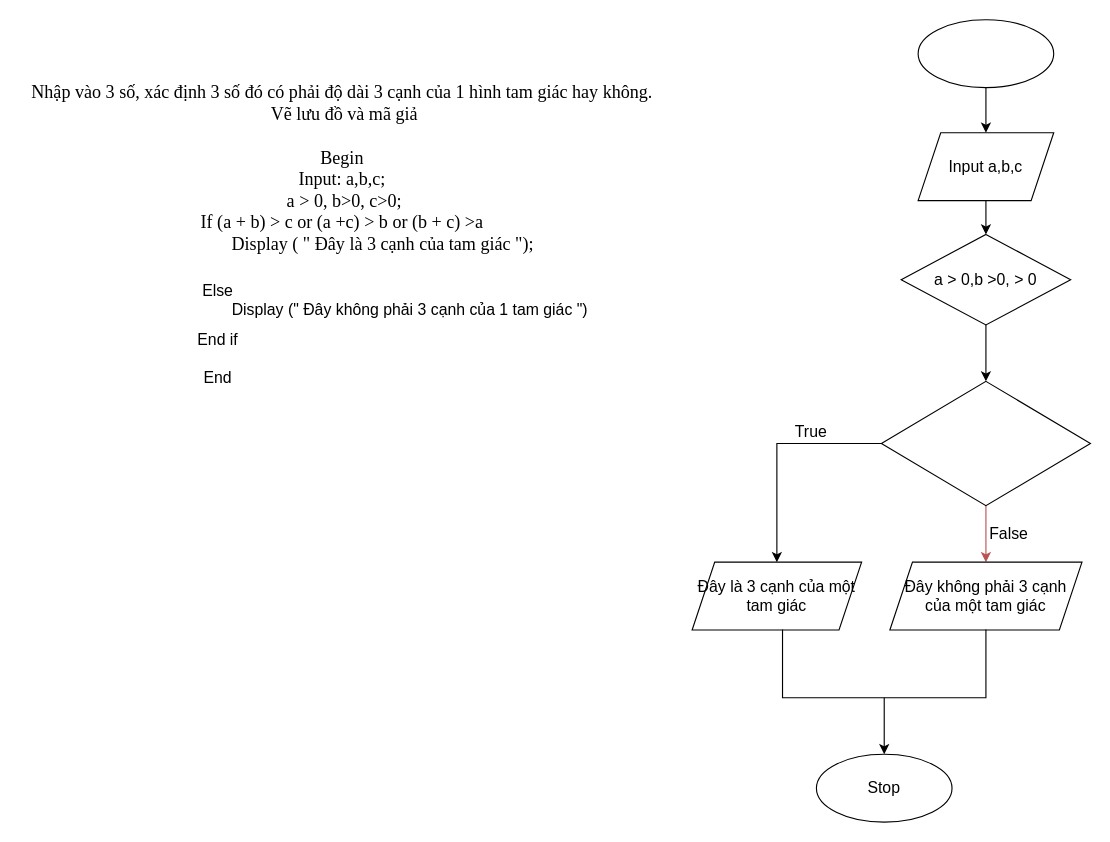
The diagram is 1110 pixels wide and 842 high, and some of its shapes have lost their labels. The box of each missing label's shape, as (x1, y1, x2, y2) in pixels:
(a + b) > c , (a + c) > b, (b + c) > a: (880, 380, 1090, 506)
Start: (917, 19, 1054, 88)
